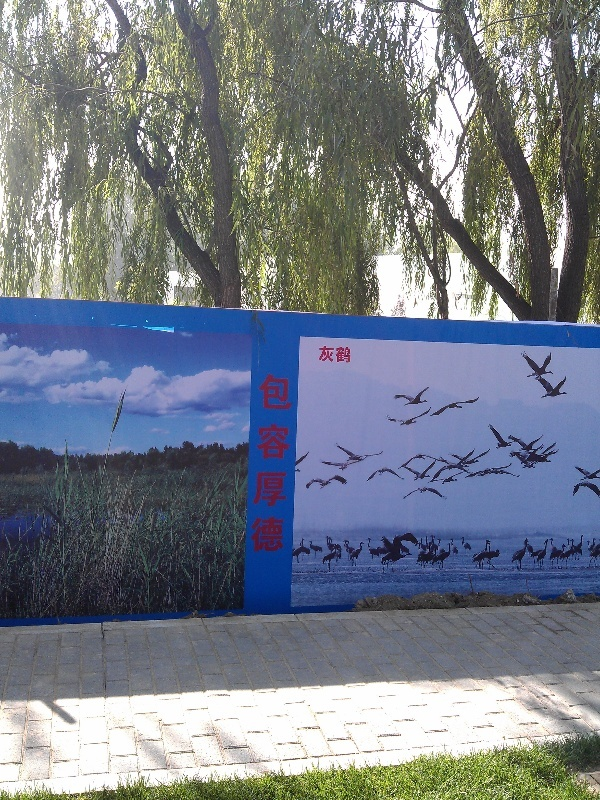text: (273, 374, 288, 557), (258, 374, 272, 557), (289, 374, 293, 557), (337, 344, 353, 364), (321, 344, 336, 364), (319, 344, 320, 364)
